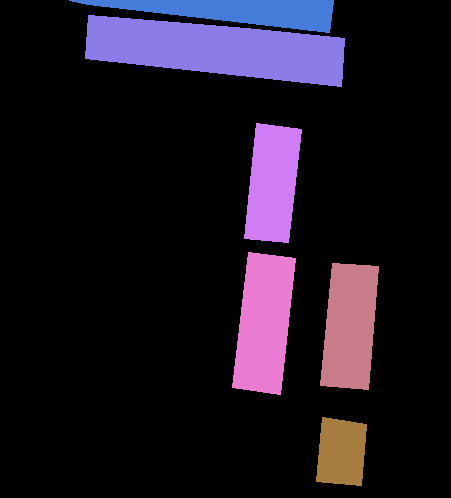parkingspot: (85, 15, 344, 86), (232, 252, 295, 394), (69, 0, 333, 32), (320, 263, 378, 389), (244, 123, 301, 242), (316, 417, 366, 485)
